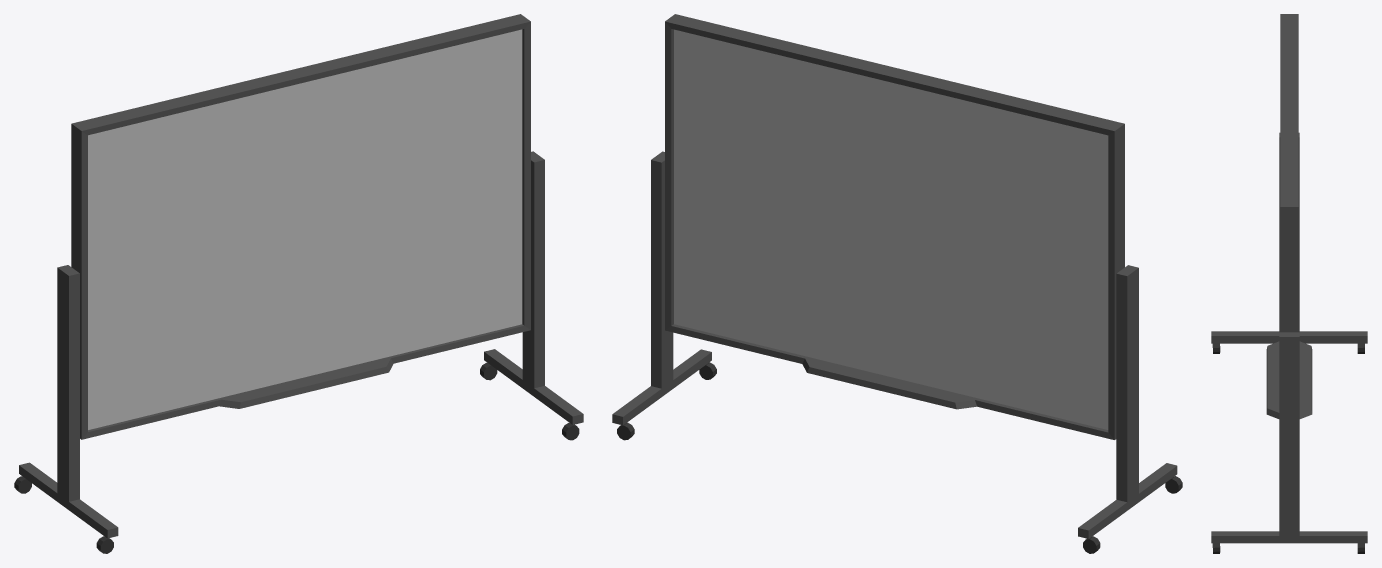
Rendered from Whiteboard.fbx.
The picture shows the model from 3 angles, left to right: view 1: azimuth 30°, elevation 25°; view 2: azimuth 150°, elevation 25°; view 3: azimuth 270°, elevation 25°; orthographic projection. The views are drawn at different scales.
Visible parts, largest first — view 1: Whiteboard, WhiteboardBen; view 2: Whiteboard, WhiteboardBen; view 3: WhiteboardBen, Whiteboard.
Boxes of the visible parts, bbox=[...] form: Whiteboard: bbox=[71, 14, 530, 439]; WhiteboardBen: bbox=[19, 151, 583, 538]; Whiteboard: bbox=[665, 14, 1124, 439]; WhiteboardBen: bbox=[612, 151, 1177, 538]; WhiteboardBen: bbox=[1211, 132, 1367, 543]; Whiteboard: bbox=[1266, 14, 1312, 418].
Bounding box in the file's own units: 376 × 292 × 120.
